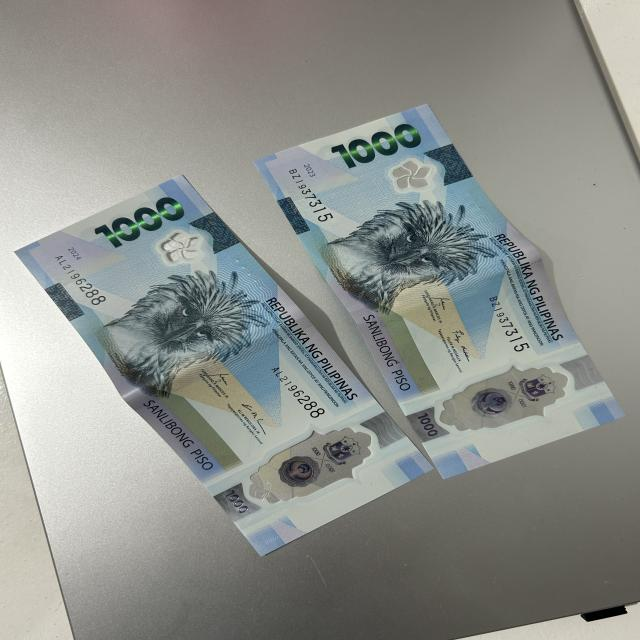clear_window: (416, 367, 586, 433), (243, 434, 390, 500)
eagle: (83, 286, 265, 377), (334, 208, 486, 289)
sampaguita: (153, 233, 204, 265), (385, 159, 436, 191)
